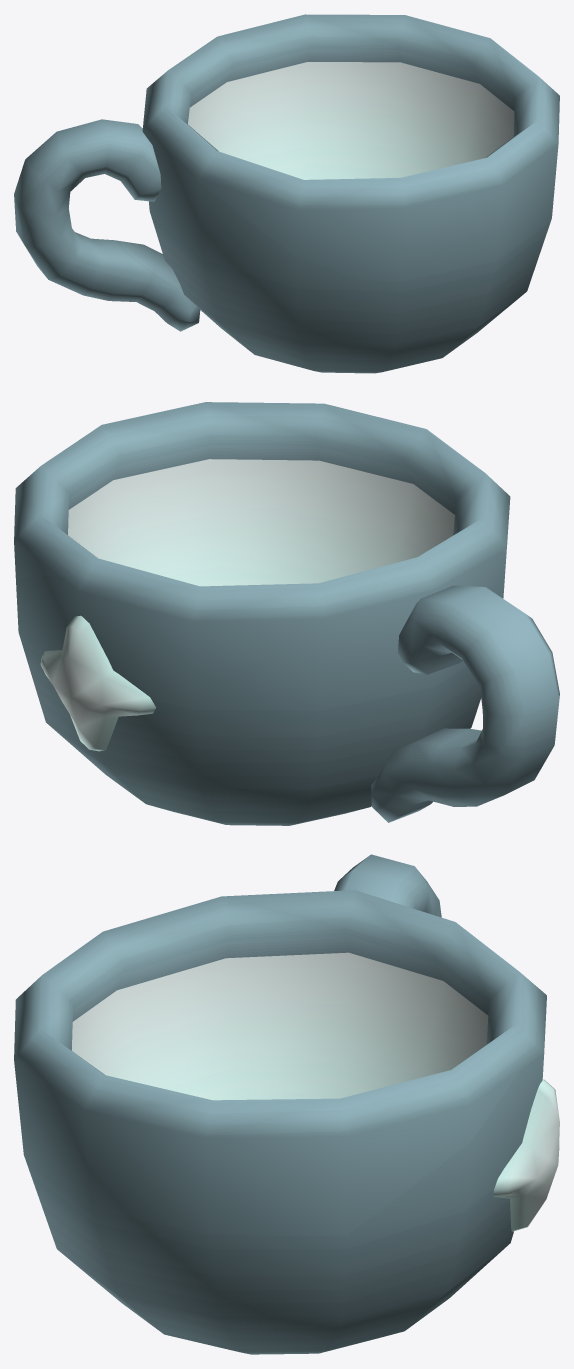
The model's file is Prop_PastryTeaTable_Cup.glb.
3 renders of one model, top to bottom at view 1: azimuth 30°, elevation 25°; view 2: azimuth 150°, elevation 25°; view 3: azimuth 270°, elevation 25°, orthographic. The views are drawn at different scales.
Parts seen in each view (by area): view 1: Prop_PastryTeaTable_Cup; view 2: Prop_PastryTeaTable_Cup; view 3: Prop_PastryTeaTable_Cup.
Boxes of the visible parts, bbox=[...] form: Prop_PastryTeaTable_Cup: bbox=[14, 14, 559, 373]; Prop_PastryTeaTable_Cup: bbox=[14, 402, 559, 825]; Prop_PastryTeaTable_Cup: bbox=[14, 854, 559, 1354].
Bounding box in the file's own units: 1.7 × 0.8789 × 1.33.
Materials: 1 (1 with a texture image).
